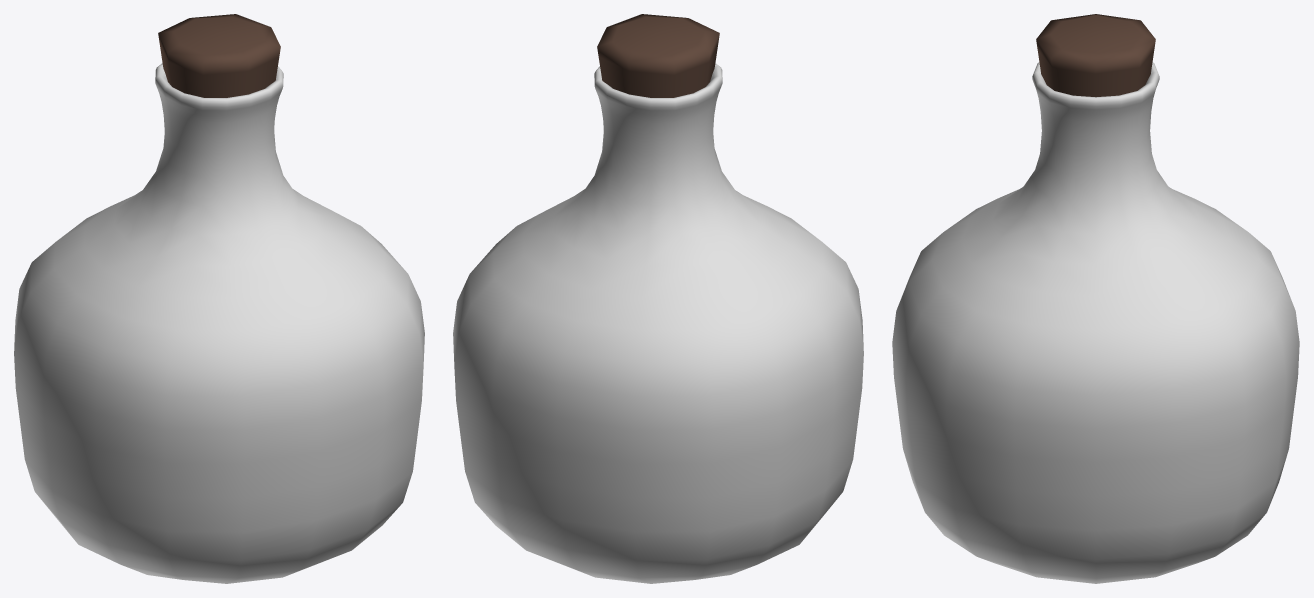
Rendered from quaternius-rpg-items-pack-potion2-filled.glb.
3 views of the same model, side by side, from view 1: azimuth 30°, elevation 25°; view 2: azimuth 150°, elevation 25°; view 3: azimuth 270°, elevation 25° (orthographic).
Visible parts, largest first — view 1: Potion2_Filled; view 2: Potion2_Filled; view 3: Potion2_Filled.
Part boxes in pixels (<box>): Potion2_Filled: <box>14,14,424,583</box>; Potion2_Filled: <box>453,14,863,583</box>; Potion2_Filled: <box>892,14,1299,583</box>.
Bounding box in the file's own units: 0.8768 × 1.22 × 0.8768.
